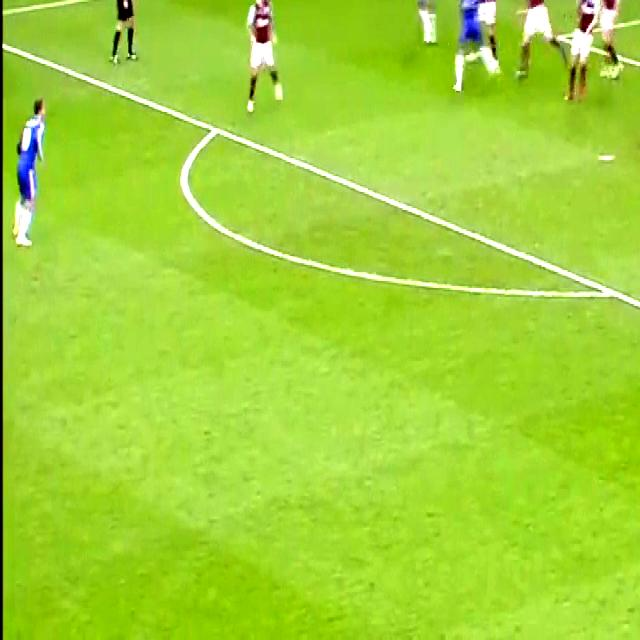referee: (104, 0, 144, 73)
soccer-player: (238, 0, 296, 124), (11, 88, 51, 251), (509, 0, 560, 89), (449, 0, 494, 100), (565, 0, 601, 100), (592, 0, 629, 82), (403, 0, 446, 46)
